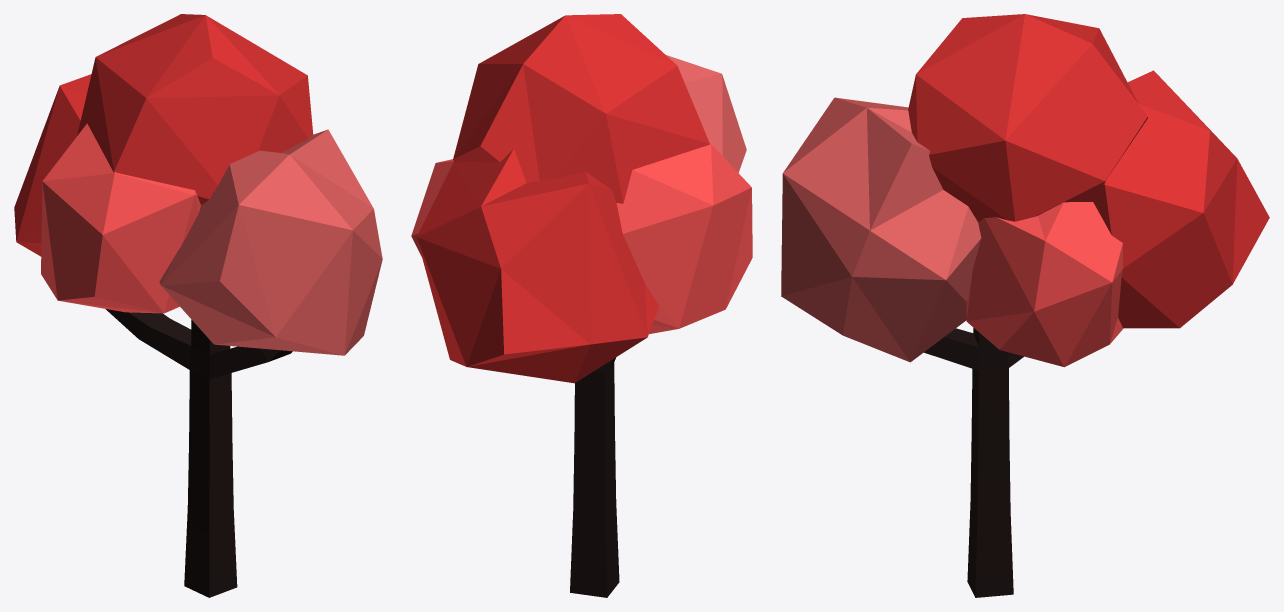
Rendered from Tree.FBX.
3 renders of one model, left to right at view 1: azimuth 30°, elevation 25°; view 2: azimuth 150°, elevation 25°; view 3: azimuth 270°, elevation 25°, orthographic. The views are drawn at different scales.
Parts seen in each view (by area): view 1: Box011; view 2: Box011; view 3: Box011.
Part boxes in pixels (x1,y1,x2,y2): Box011: (14, 14, 382, 597); Box011: (411, 14, 752, 597); Box011: (781, 14, 1269, 597).
Bounding box in the file's own units: 150 × 291 × 222.
